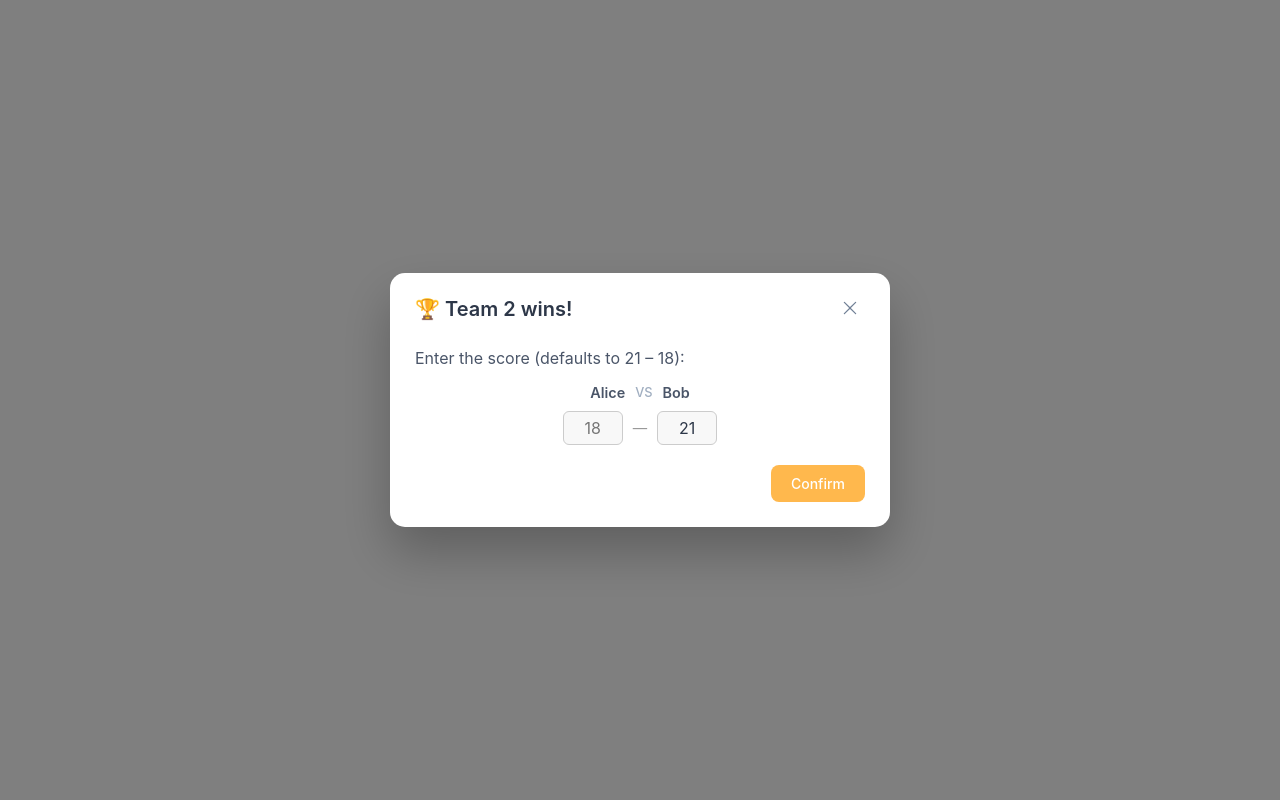
Scenario: ScoreInputModal › score decides the winner regardless of the clicked team › updates the title to the score-derived winner
Type "21" into the number field with test id "score-input-team1".
click(593, 428); type("21")  # box [563,411,623,445]
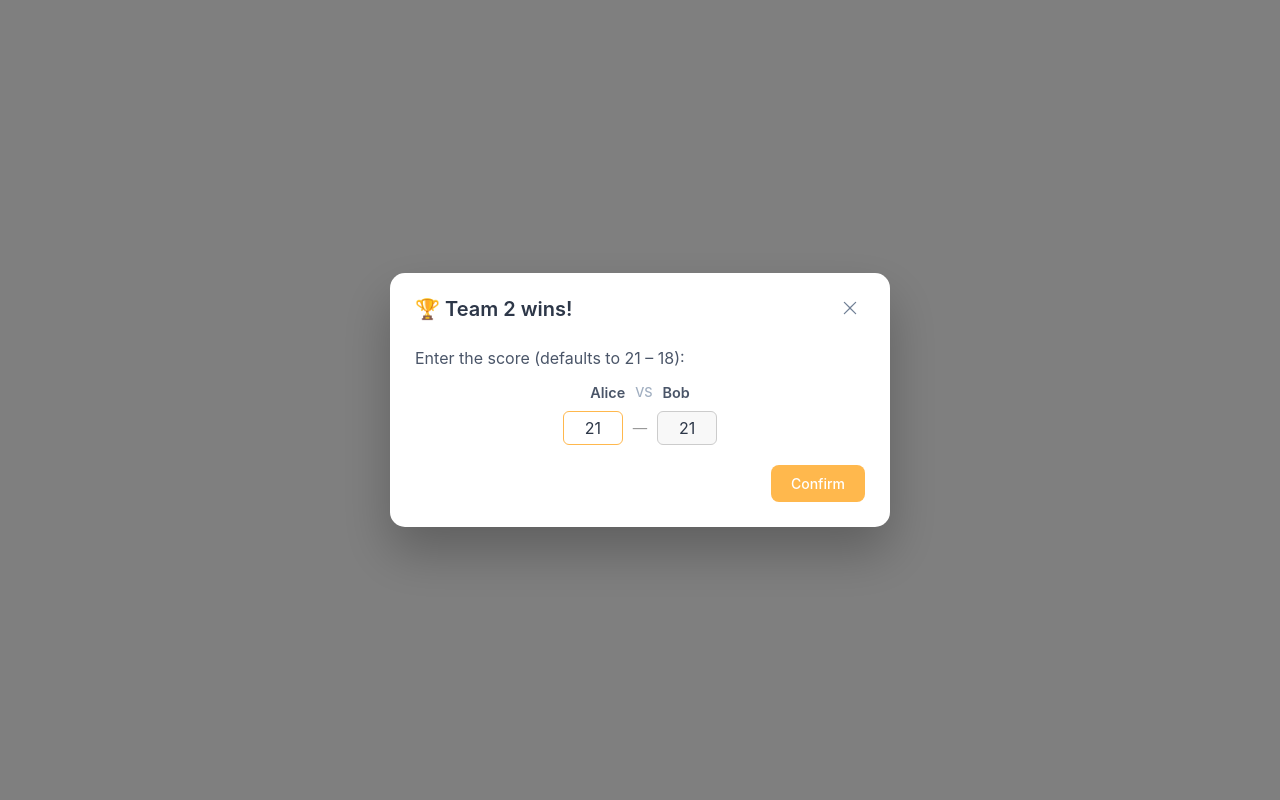
Type "18" into the number field with test id "score-input-team2".
click(687, 428); type("18")  # box [657,411,717,445]
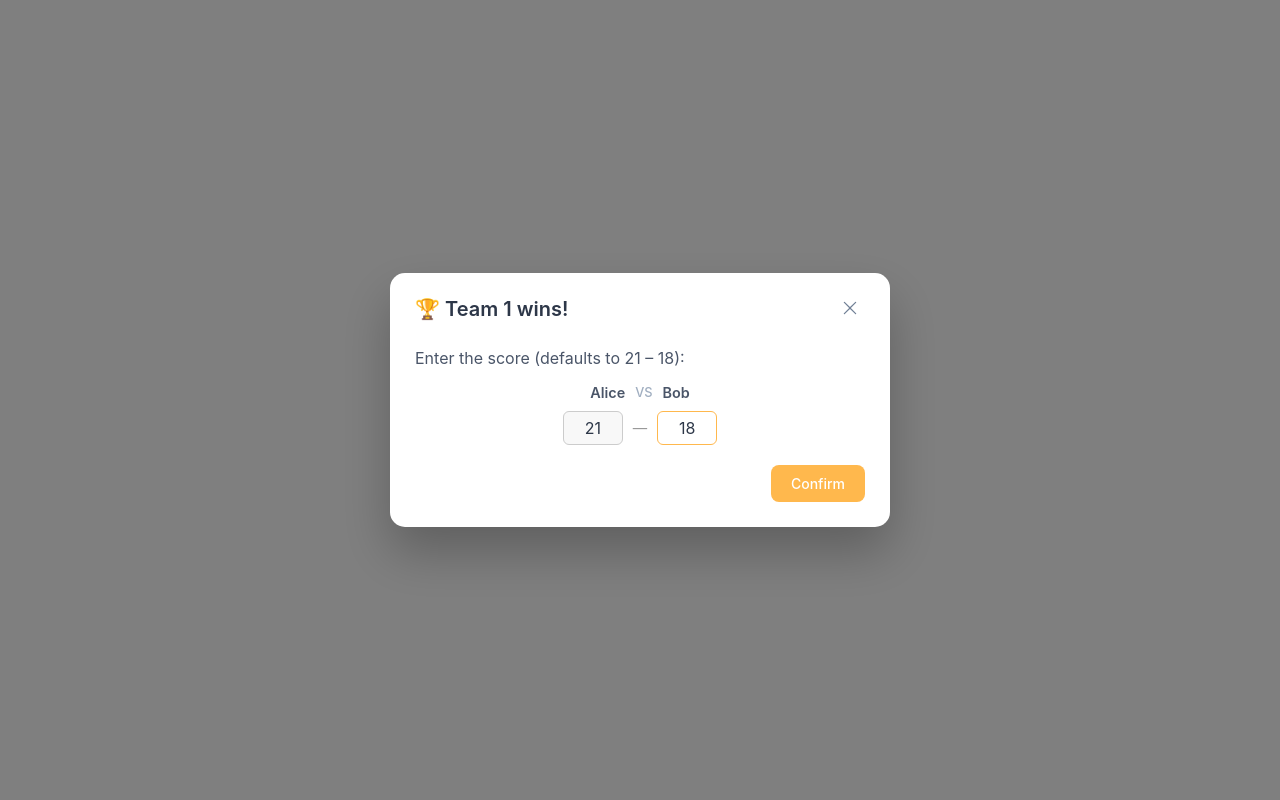
Now the heading "🏆 Team 1 wins!" is shown, box [415,294,568,324]
